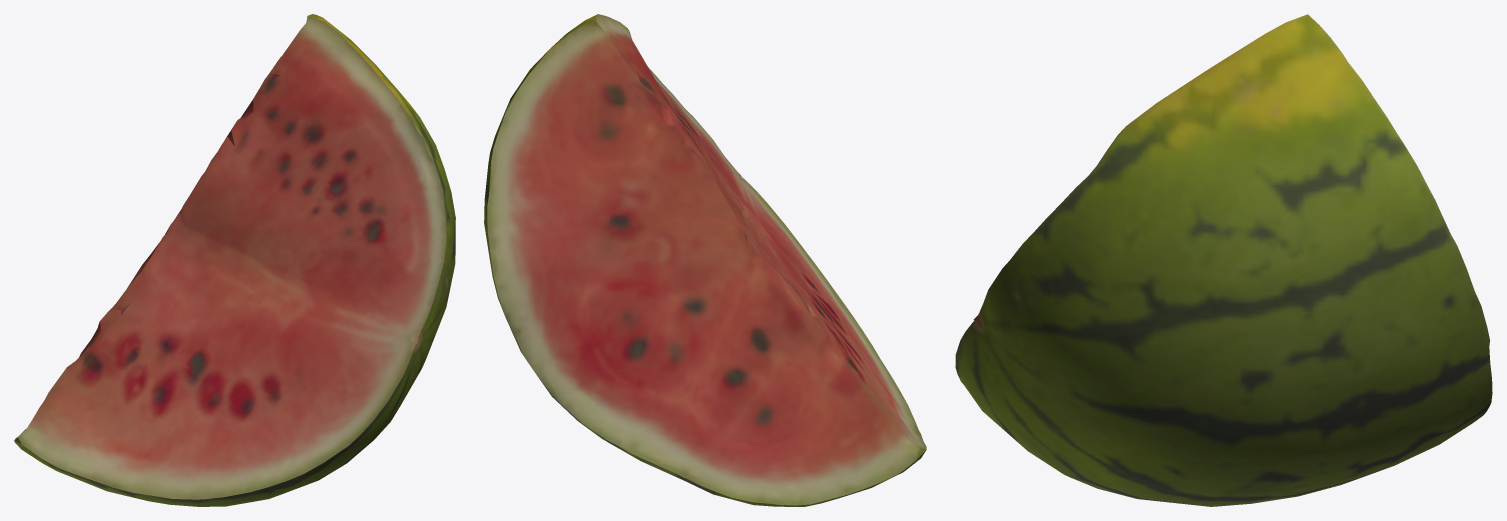
File: WatermelonSlice.glb
3 renders of one model, left to right at view 1: azimuth 30°, elevation 25°; view 2: azimuth 150°, elevation 25°; view 3: azimuth 270°, elevation 25°, orthographic. The views are drawn at different scales.
Visible parts, largest first — view 1: MDCNQXCMB301_LOD2.001; view 2: MDCNQXCMB301_LOD2.001; view 3: MDCNQXCMB301_LOD2.001.
Boxes of the visible parts, left/top/right/bottom form: MDCNQXCMB301_LOD2.001: left=14, top=14, right=455, bottom=506; MDCNQXCMB301_LOD2.001: left=484, top=14, right=926, bottom=506; MDCNQXCMB301_LOD2.001: left=955, top=14, right=1492, bottom=506.
Size of the model in its own units: 1.3 by 1.31 by 1.14.
1 material, 1 textured.
